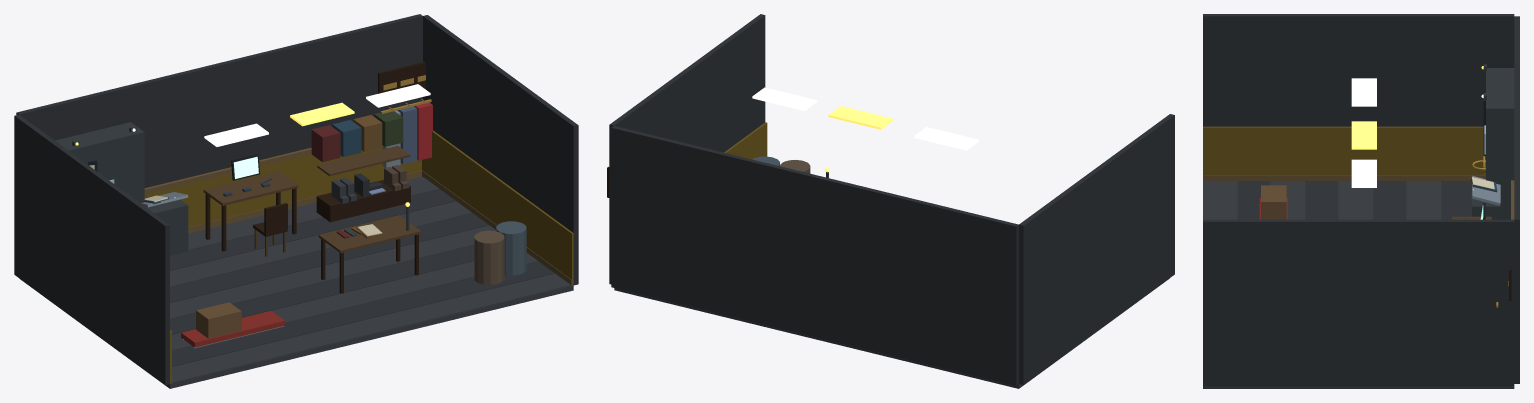
The model's file is gear.glb.
3 renders of one model, left to right at view 1: azimuth 30°, elevation 25°; view 2: azimuth 150°, elevation 25°; view 3: azimuth 270°, elevation 25°, orthographic. The views are drawn at different scales.
Visible parts, largest first — view 1: WallBack, WallLeft, WallRight, BandRight, Plank0, Plank1, BandBack, Plank4, Plank5, Plank3, AirlockFrame, Plank7 (+27 smaller); view 2: WallBack, WallLeft, WallRight, Floor, BandRight, CeilLamp1, CeilLamp0, CeilLamp2; view 3: WallRight, WallLeft, BandLeft, AirlockFrame, WallBack, SkirtLeft, Floor, Plank0, Plank3, Plank6, Plank5, Plank4 (+9 smaller).
Boxes of the visible parts, x1,y1,x2,y2 form: WallBack: (16, 14, 422, 187); WallLeft: (14, 114, 169, 384); WallRight: (423, 15, 578, 285); BandRight: (422, 130, 573, 279); Plank0: (172, 273, 570, 382); Plank1: (172, 261, 554, 366); BandBack: (144, 145, 421, 227); Plank4: (170, 225, 496, 319); Plank5: (170, 213, 488, 302); Plank3: (170, 245, 474, 334); AirlockFrame: (55, 122, 144, 203); Plank7: (170, 189, 455, 270); WallBack: (611, 126, 1018, 385); WallLeft: (1019, 114, 1174, 384); WallRight: (609, 14, 765, 284); Floor: (614, 278, 1169, 388); BandRight: (724, 122, 767, 159); CeilLamp1: (828, 106, 893, 129); CeilLamp0: (914, 127, 978, 150); CeilLamp2: (752, 87, 816, 110); WallRight: (1203, 219, 1514, 386); WallLeft: (1203, 14, 1514, 126); BandLeft: (1203, 126, 1485, 175); AirlockFrame: (1486, 68, 1514, 219); WallBack: (1514, 16, 1519, 383); SkirtLeft: (1203, 175, 1485, 181); Floor: (1203, 181, 1514, 388); Plank0: (1203, 181, 1236, 219); Plank3: (1305, 181, 1338, 219); Plank6: (1407, 181, 1440, 219); Plank5: (1373, 181, 1406, 219); Plank4: (1339, 181, 1372, 219).
Size of the model in its own units: 8.85 by 3.3 by 5.6.
